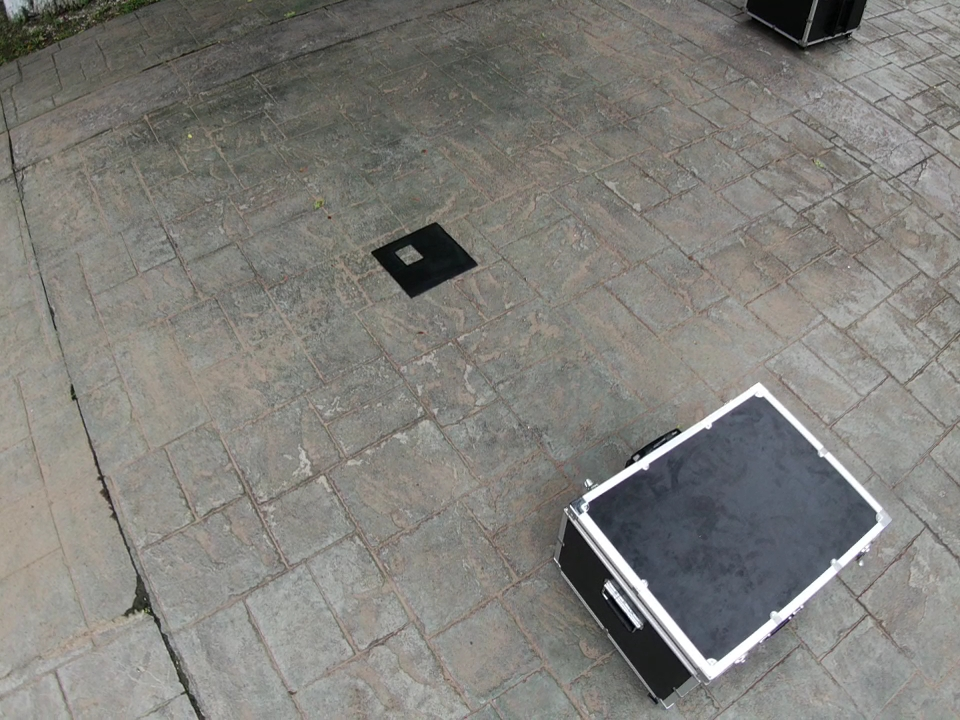box: (553, 383, 893, 709)
qrcode: (371, 222, 479, 298)
